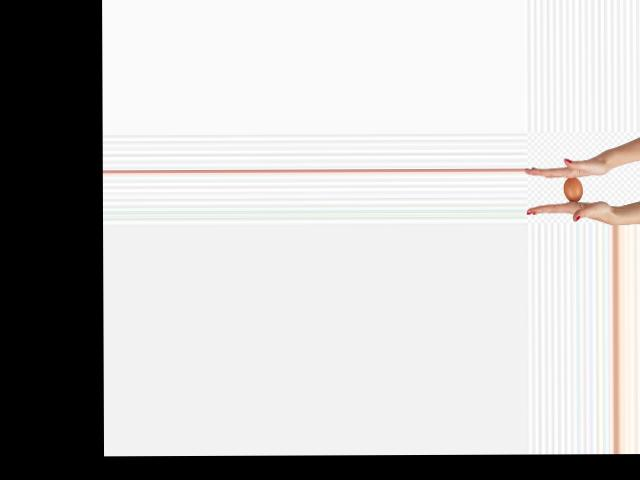egg: (564, 177, 583, 201)
